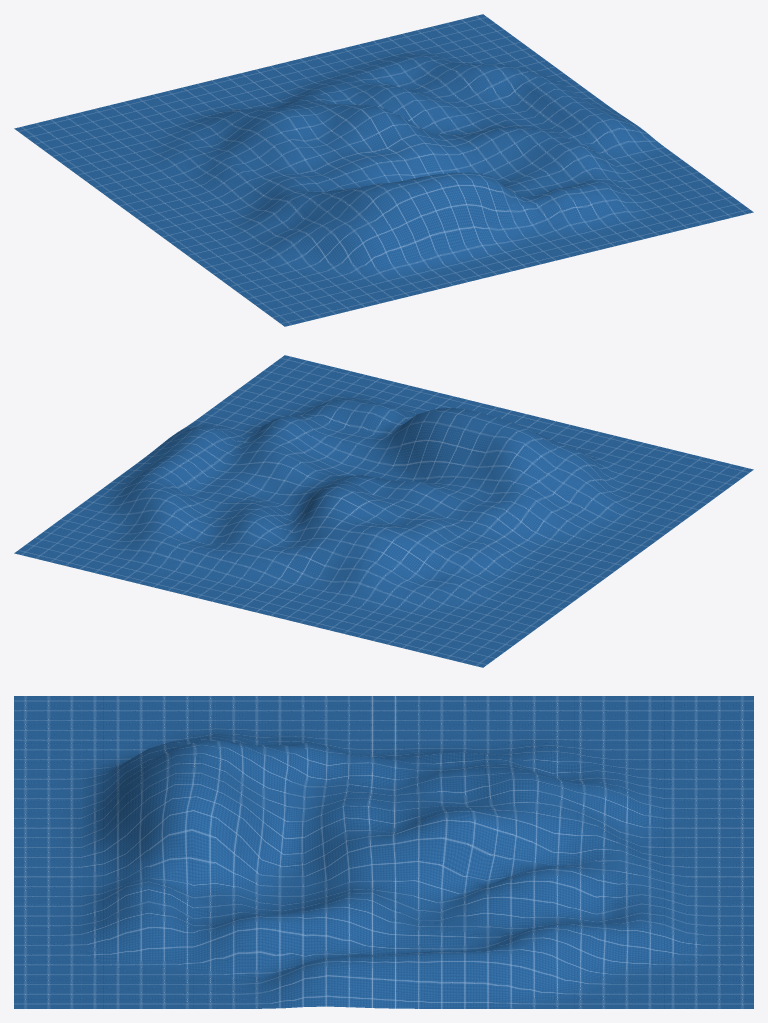
File: terrain.glb
3 views of the same model, one above another, from view 1: azimuth 30°, elevation 25°; view 2: azimuth 150°, elevation 25°; view 3: azimuth 270°, elevation 25° (orthographic). The views are drawn at different scales.
Visible parts, largest first — view 1: terrain-col; view 2: terrain-col; view 3: terrain-col.
Boxes of the visible parts, x1,y1,x2,y2 form: terrain-col: (14, 14, 753, 326); terrain-col: (14, 355, 753, 667); terrain-col: (14, 696, 753, 1008).
Size of the model in its own units: 337 by 33.14 by 337.
Materials: 1 (1 with a texture image).
